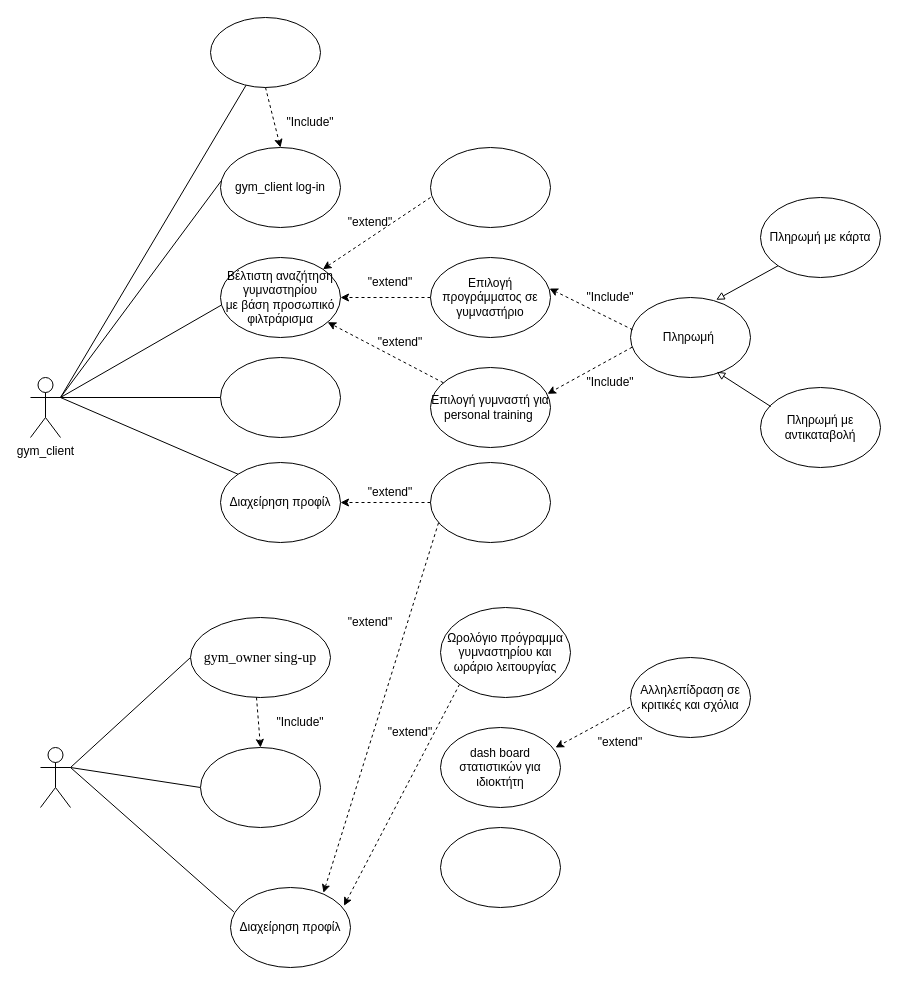
The diagram is 898 pixels wide and 985 high, and some of its shapes have lost their labels. Each missing label, with the box of its shape:
dash board οικονομικών για ιδιοκτήτη: (440, 826, 560, 908)
gym_client sing-up: (210, 16, 320, 88)
gym_owner: (40, 746, 70, 808)
gym_owner log-in: (200, 746, 320, 828)
Weight tracking: (220, 356, 340, 438)
Αλλαγή προωπικού κωδικού χρήστη: (430, 462, 550, 542)
Αξιολόγηση και κριτικές: (430, 146, 550, 228)
